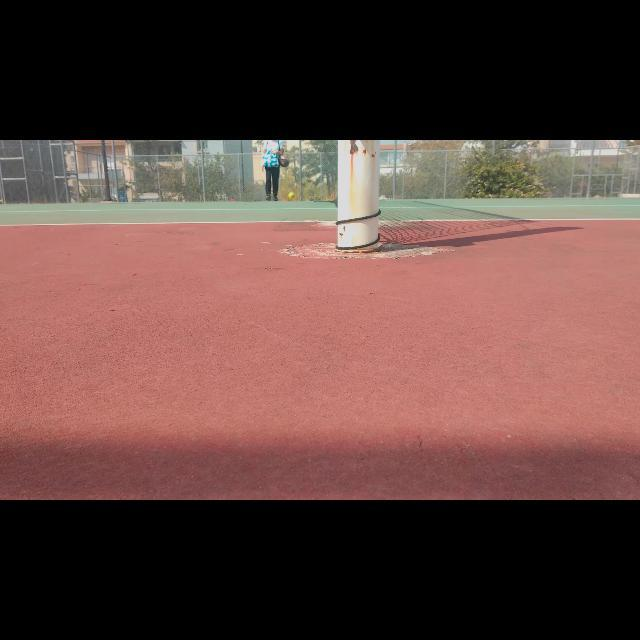tennis ball: (288, 192, 294, 198)
